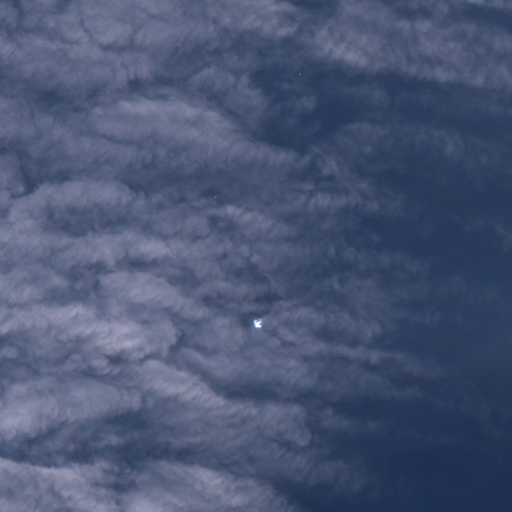Iceberg: (254, 319, 261, 327), (299, 73, 300, 74), (215, 196, 216, 197)
